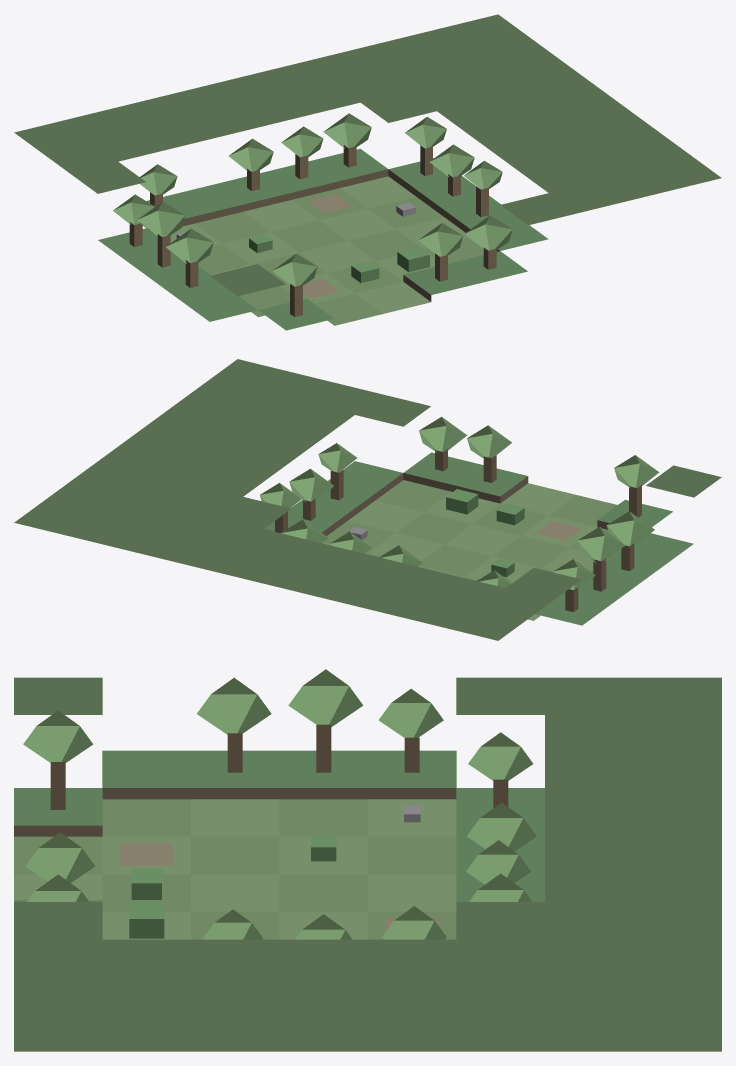
3 views of the same model, one above another, from view 1: azimuth 30°, elevation 25°; view 2: azimuth 150°, elevation 25°; view 3: azimuth 270°, elevation 25° (orthographic). The views are drawn at different scales.
Parts seen in each view (by area): view 1: mesh0; view 2: mesh0; view 3: mesh0.
Part boxes in pixels (x1,y1,x2,y2): mesh0: (14,14,721,330); mesh0: (14,359,721,640); mesh0: (14,669,721,1051).
Bounding box in the file's own units: 10 × 1.38 × 8.
